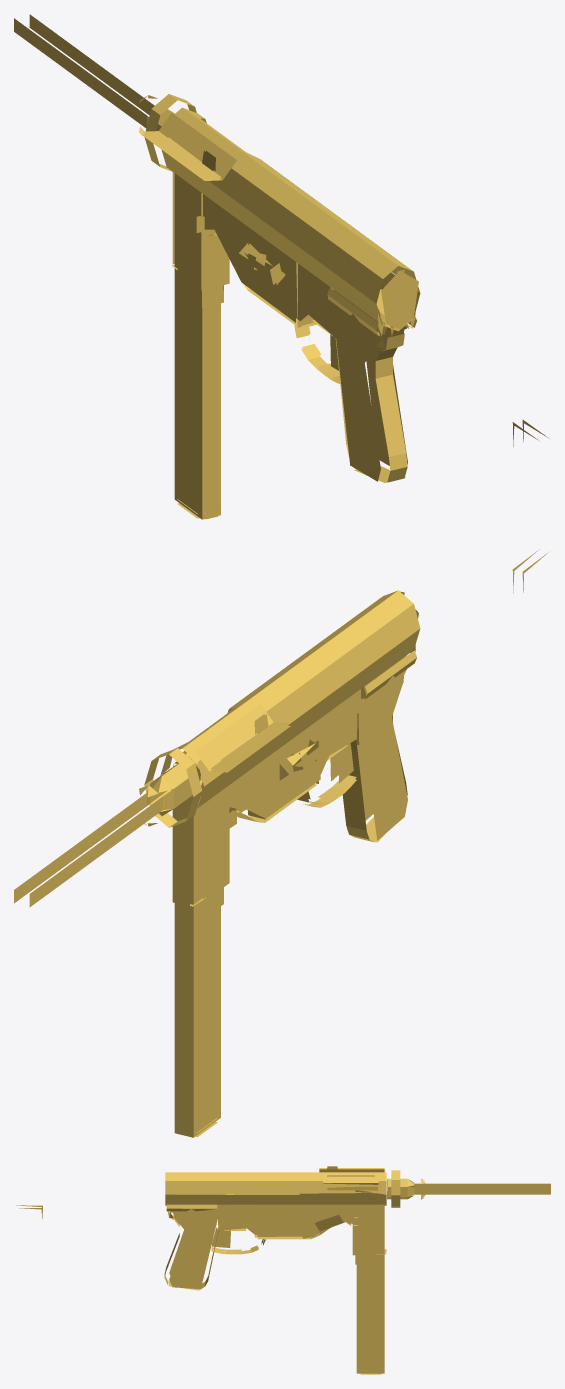
File: charm_mst_subfusil_9.glb
3 renders of one model, top to bottom at view 1: azimuth 30°, elevation 25°; view 2: azimuth 150°, elevation 25°; view 3: azimuth 270°, elevation 25°, orthographic. The views are drawn at different scales.
Parts seen in each view (by area): view 1: p0_paint; view 2: p0_paint; view 3: p0_paint.
Boxes of the visible parts, x1,y1,x2,y2 form: p0_paint: (14, 14, 547, 519); p0_paint: (14, 549, 548, 1137); p0_paint: (16, 1166, 550, 1374).
Size of the model in its own units: 0.0783 by 0.3012 by 0.7265.
